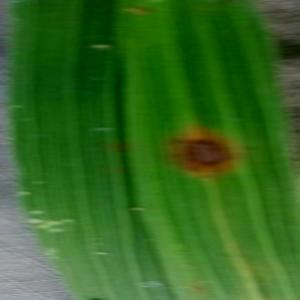0 BrownSpot: (162, 126, 241, 183)
